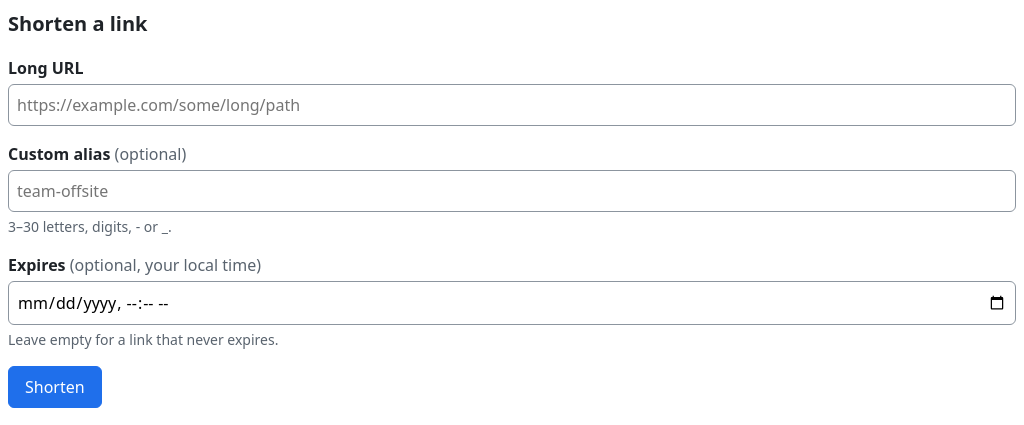
CreateLinkForm › disables the button while the request is in progress
Type "https://example.com/" into the field labelled "Long URL" at (512, 105), box x1=8 y1=84 x2=1016 y2=126
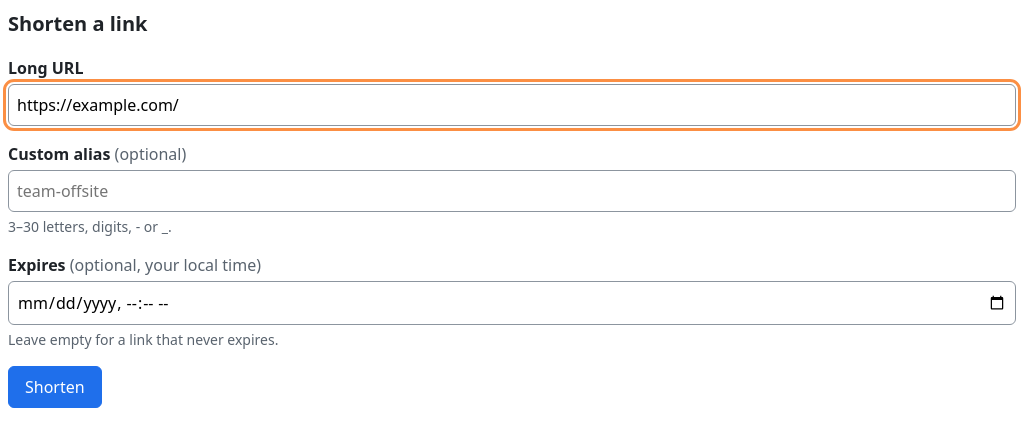
Click the button "Shorten" at (55, 387), box x1=8 y1=366 x2=102 y2=408
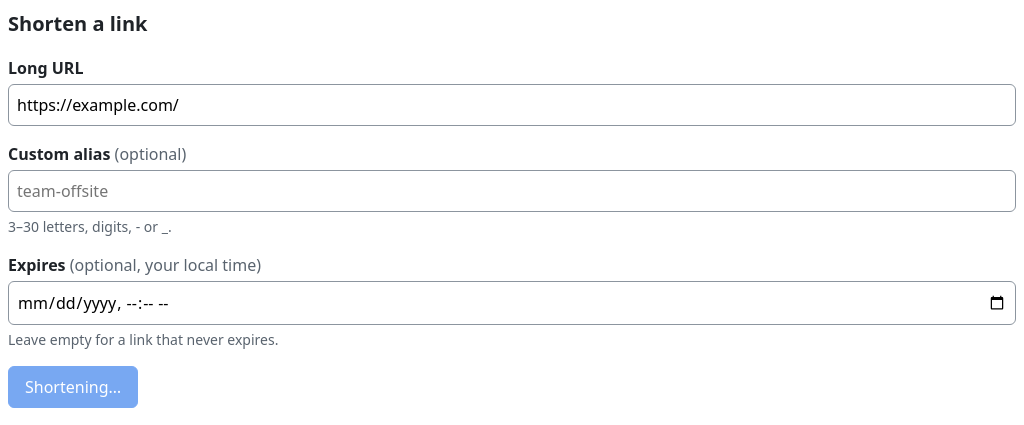
Expected: the button "Shortening…" is disabled, x1=8 y1=366 x2=138 y2=408
